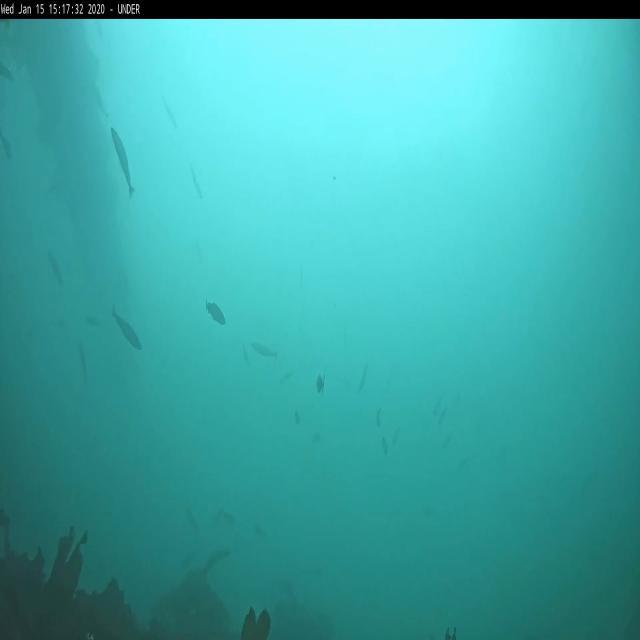fish: (112, 128, 135, 196), (112, 305, 142, 350), (202, 550, 228, 578), (204, 300, 226, 326), (252, 342, 276, 360), (48, 253, 64, 280), (189, 164, 202, 196), (164, 98, 176, 127), (80, 341, 88, 382), (358, 367, 369, 392), (84, 314, 102, 328), (316, 374, 326, 394)
